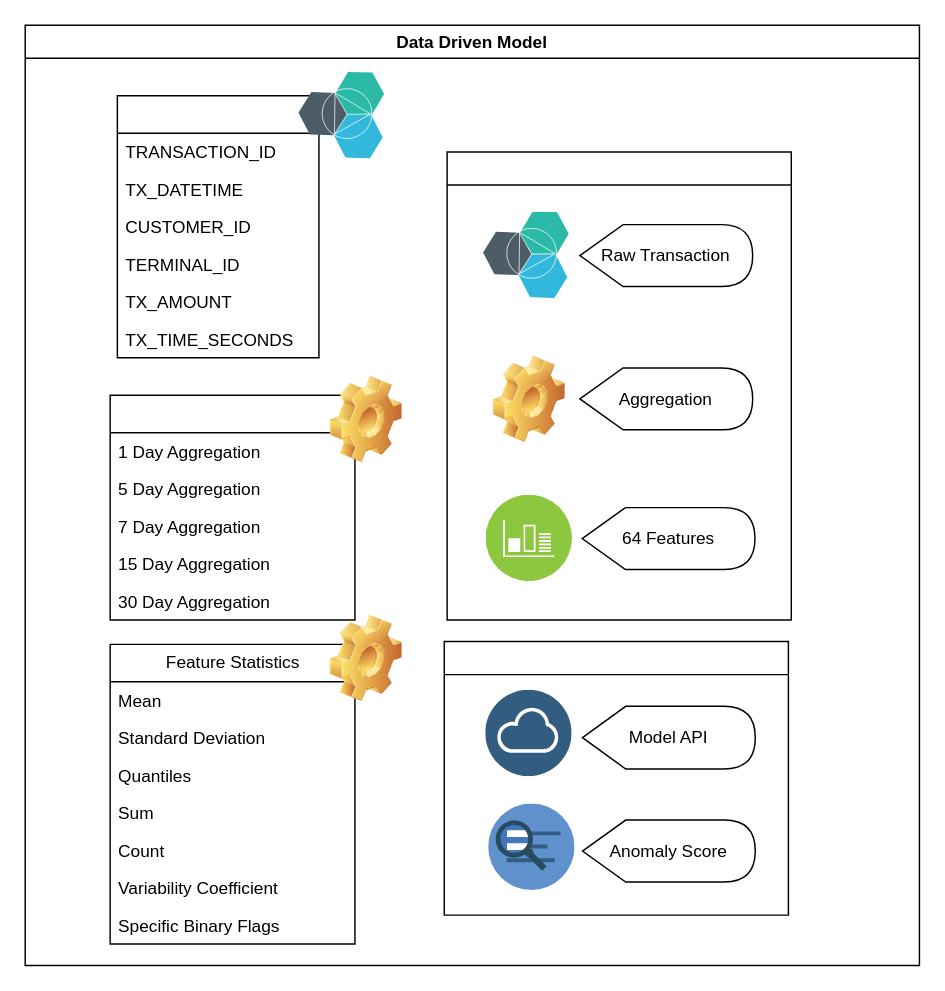
Image size: 945x991. Some labels were removed from this diagram. The box of each missing label's shape, as (x1, y1, x2, y2) in pixels:
ETL Process: (446, 150, 791, 620)
Feature Time Aggregation: (109, 394, 355, 620)
Scoring Process: (443, 640, 788, 915)
Transaction Details: (116, 94, 319, 358)
